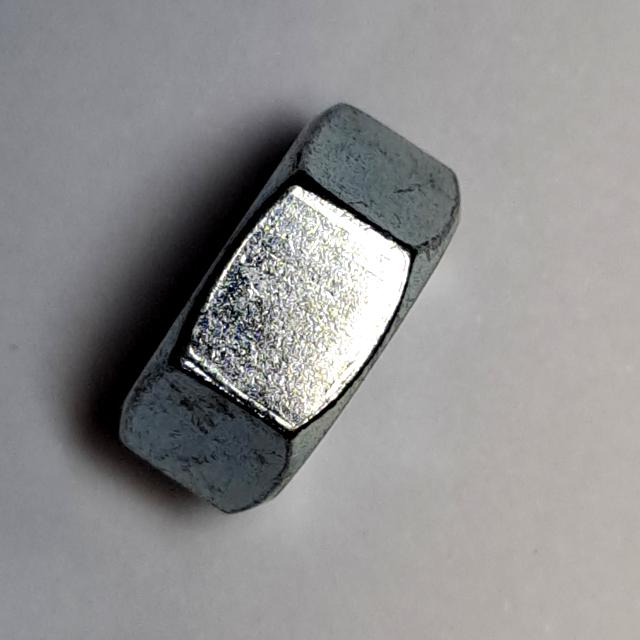Side_Excellent: (96, 89, 496, 537)
